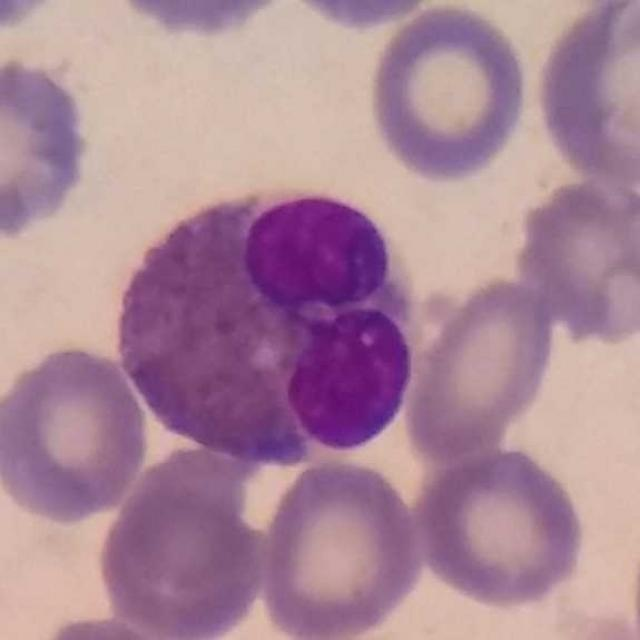Eosinophil: (113, 168, 420, 473)
RBC: (254, 455, 427, 640), (363, 0, 534, 185), (400, 272, 562, 460), (410, 442, 590, 611), (0, 340, 154, 526), (93, 478, 269, 640), (508, 172, 640, 347), (277, 301, 422, 454), (530, 1, 640, 190), (0, 48, 99, 246), (100, 0, 301, 41), (272, 0, 456, 33), (41, 614, 164, 640), (0, 0, 70, 38)
